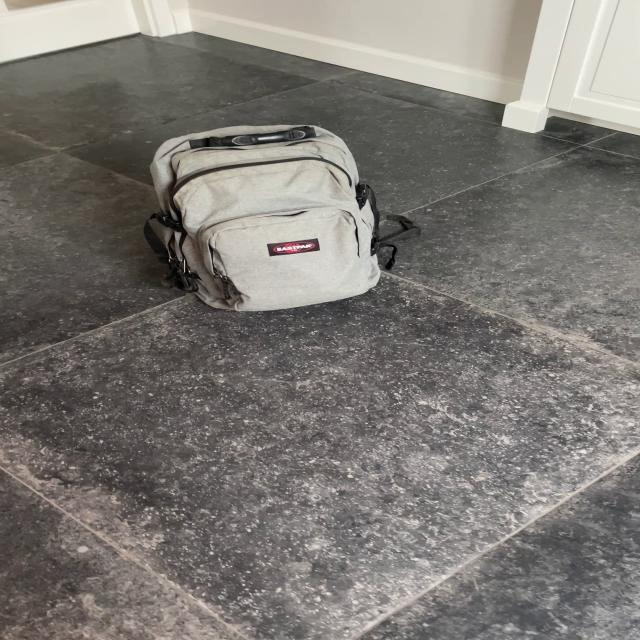backpack: (133, 116, 394, 317)
